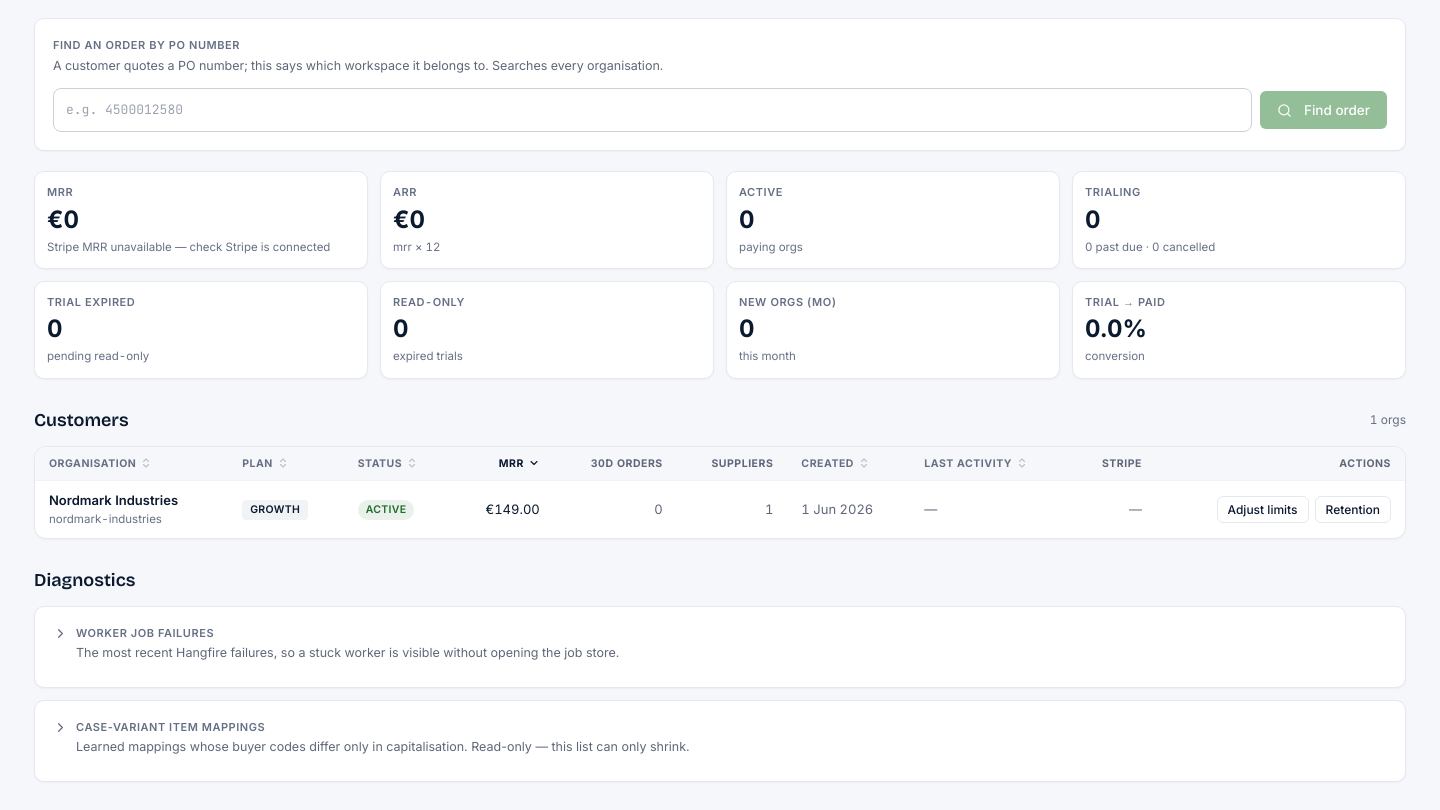
Test case: admin — case-variant item mapping twins › lists each group's folded code and spellings, and repeats the server's read-only note
(page scrolled)
Expected: the heading "Customers" is shown, [34,407,129,434]
Click the button that starts with "Case-variant item mappings" at (171, 727), box [53,719,1387,763]
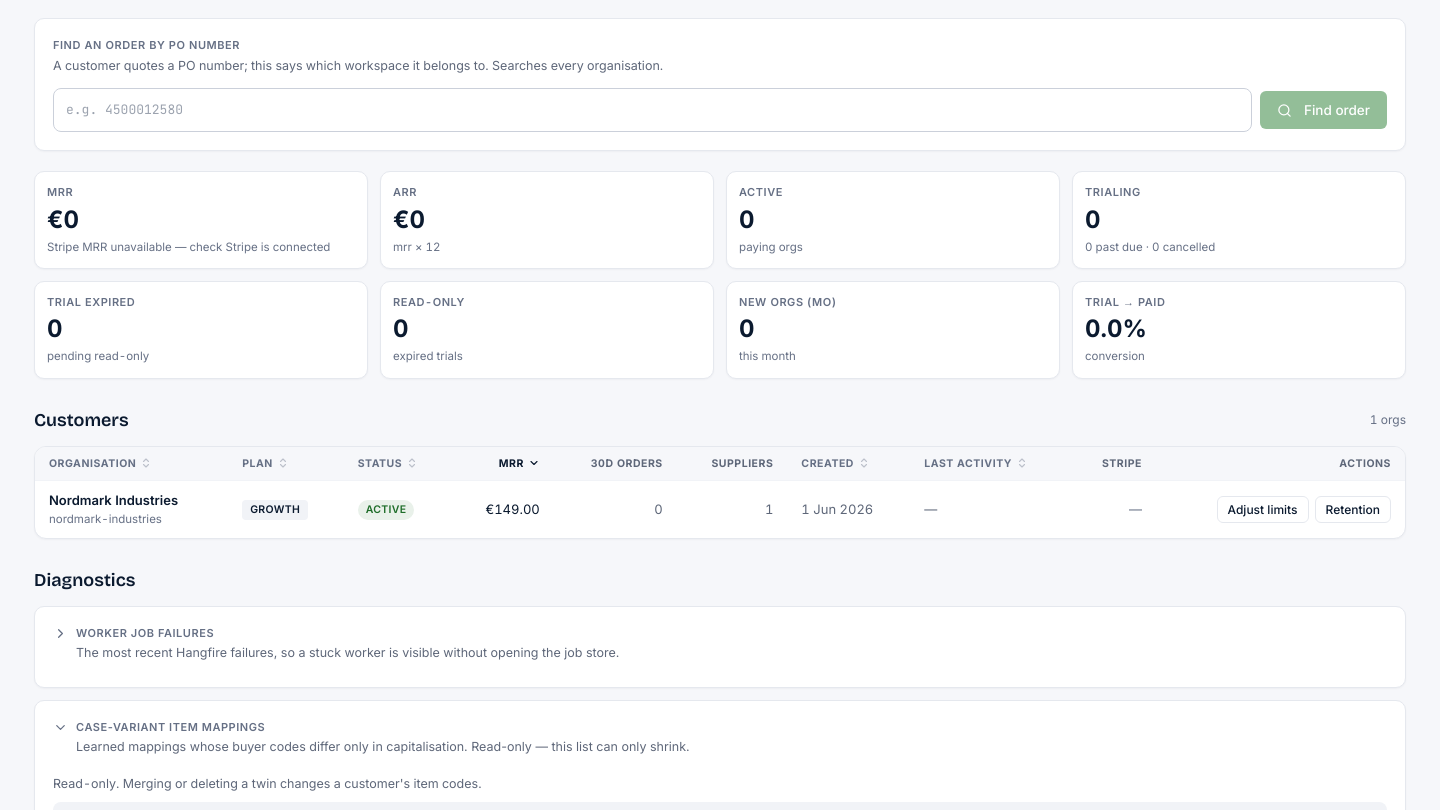
Result: the text "Read-only." is shown at [53,776,482,791]
